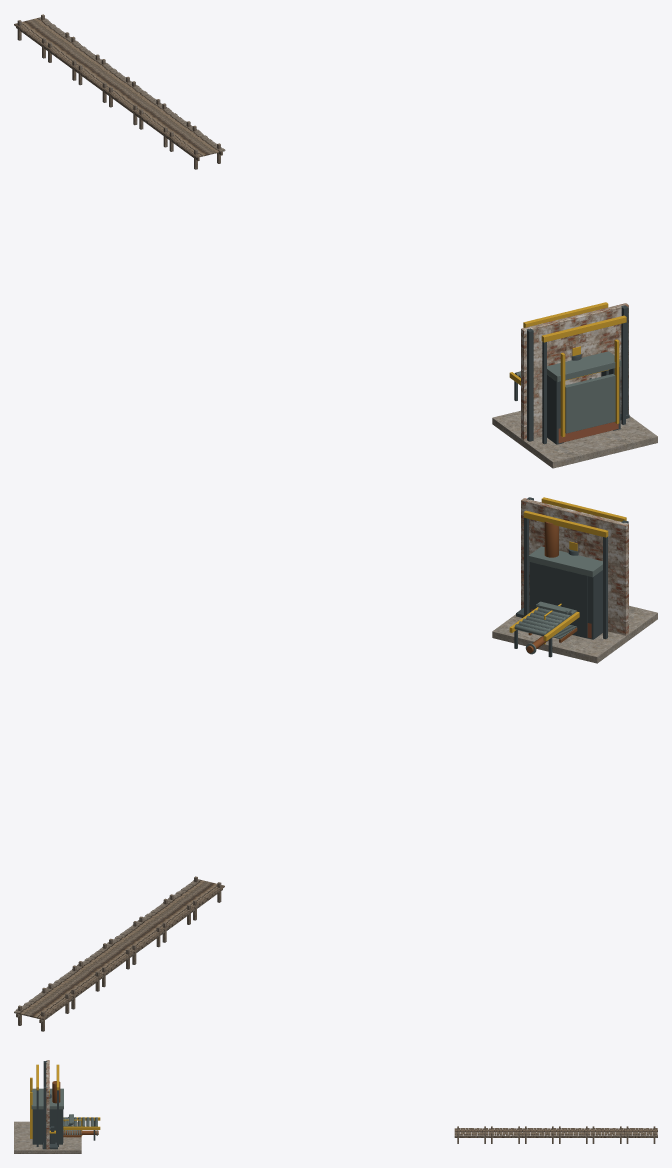
Rendered from hangar.glb.
3 renders of one model, top to bottom at view 1: azimuth 30°, elevation 25°; view 2: azimuth 150°, elevation 25°; view 3: azimuth 270°, elevation 25°, orthographic. The views are drawn at different scales.
Visible parts, largest first — view 1: wall, slab, door, roof, furnace_side, column.012, beam.004; view 2: wall, slab, back, roof, furnace_side; view 3: slab, furnace_side.001, roof, wall, column.013, column.010.
Part boxes in pixels (x1,y1,x2,y2): wall: (521,303,628,440); slab: (492,410,657,468); door: (565,374,615,433); roof: (547,351,621,382); furnace_side: (547,375,563,444); column.012: (526,328,533,441); beam.004: (541,315,626,342); wall: (521,498,628,635); slab: (492,605,657,663); back: (535,563,587,638); roof: (528,546,602,577); furnace_side: (587,570,602,639); slab: (14,1121,81,1153); furnace_side.001: (32,1109,62,1144); roof: (31,1088,63,1109); wall: (46,1060,49,1149); column.013: (43,1086,47,1147); column.010: (36,1090,38,1146).
Bounding box in the file's own units: 4 × 4.3 × 38.
Materials: 10 (4 with a texture image).
